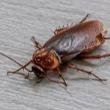cockroach: (29, 19, 106, 80)
